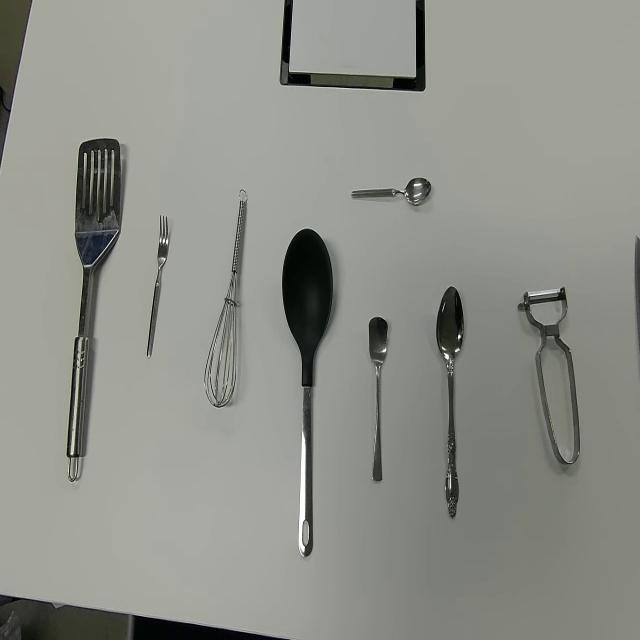Desert-Spoon: (436, 284, 465, 522)
Dinner-Fork: (145, 214, 170, 362)
Kitchen-Knife: (634, 231, 640, 350)
Peeler: (516, 282, 580, 466)
Serving-Spoon: (66, 136, 122, 485), (281, 225, 334, 559)
Tea-Spoon: (368, 314, 388, 483), (350, 175, 432, 206)
Whisk: (203, 188, 248, 409)
